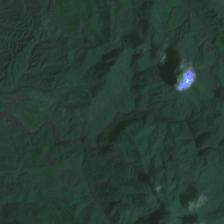landslides: (92, 191, 120, 224), (89, 44, 121, 72), (22, 35, 42, 60), (121, 56, 139, 83), (1, 60, 24, 78), (93, 150, 121, 164), (25, 134, 40, 157), (179, 99, 198, 117), (146, 94, 167, 110), (90, 179, 120, 189), (133, 68, 146, 90), (135, 205, 158, 217), (124, 46, 147, 58), (145, 103, 164, 116), (185, 137, 200, 153), (0, 71, 13, 87), (208, 204, 221, 219), (134, 112, 147, 126), (104, 127, 115, 141), (210, 22, 224, 33), (158, 114, 179, 121), (130, 100, 142, 112), (31, 56, 42, 69), (78, 202, 91, 213), (163, 103, 176, 114), (90, 69, 104, 79), (125, 210, 135, 224), (76, 183, 88, 194), (133, 91, 145, 102), (97, 145, 111, 154), (119, 99, 130, 110), (86, 195, 97, 205), (131, 189, 142, 199), (200, 140, 211, 150), (196, 2, 207, 12), (144, 213, 156, 222), (149, 219, 170, 224)
